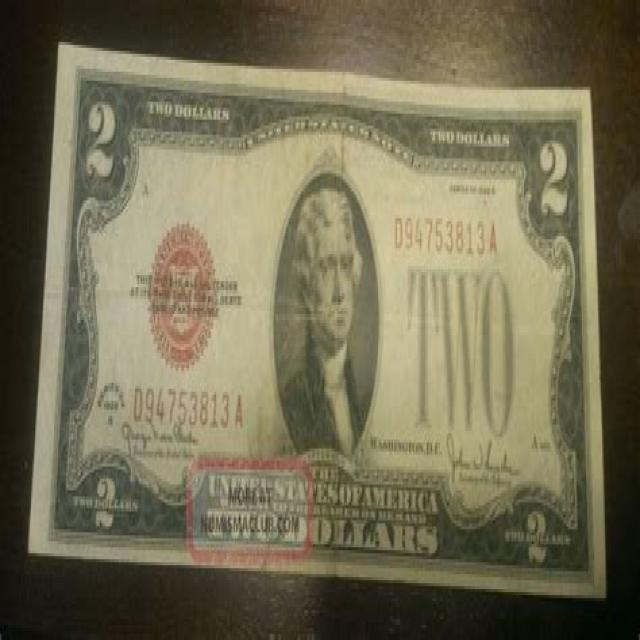Two: (40, 44, 607, 600)
